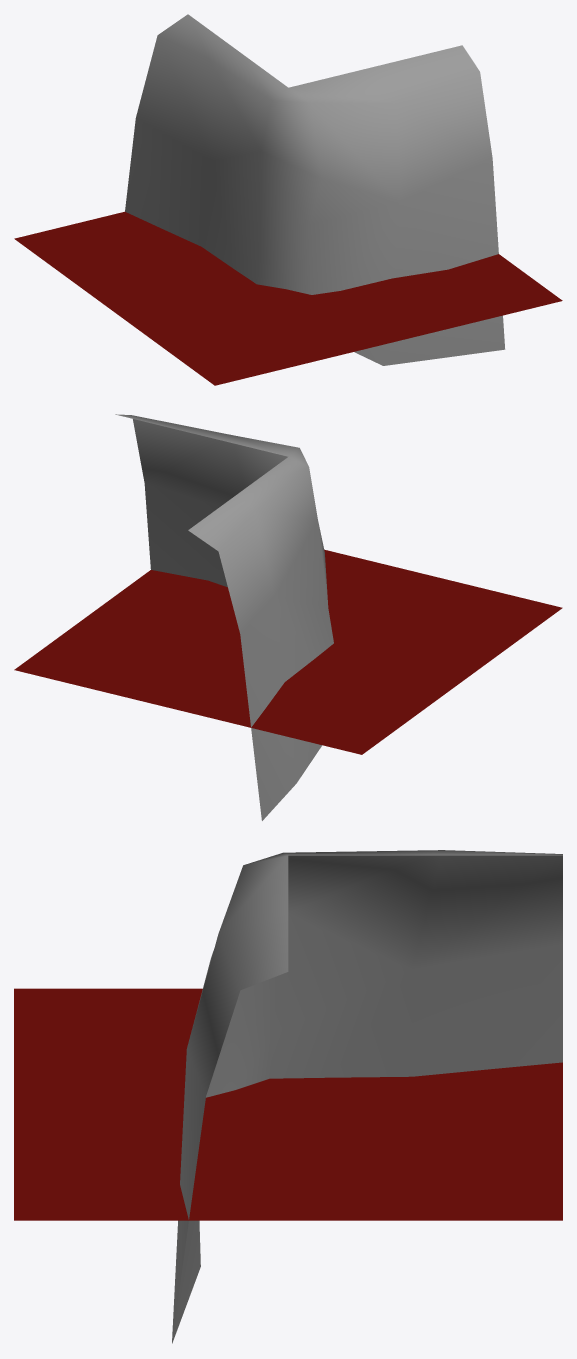
File: wall_outer_1_1x.FBX
3 renders of one model, top to bottom at view 1: azimuth 30°, elevation 25°; view 2: azimuth 150°, elevation 25°; view 3: azimuth 270°, elevation 25°, orthographic. The views are drawn at different scales.
Parts seen in each view (by area): view 1: Box002, Plane001; view 2: Plane001, Box002; view 3: Plane001, Box002.
Boxes of the visible parts, x1=… form: Box002: x1=125, y1=14, x2=505, y2=365; Plane001: x1=14, y1=211, x2=562, y2=385; Plane001: x1=14, y1=549, x2=562, y2=754; Box002: x1=115, y1=414, x2=333, y2=820; Plane001: x1=14, y1=988, x2=562, y2=1220; Box002: x1=172, y1=850, x2=562, y2=1343.
Size of the model in its own units: 80 by 61.54 by 80.
